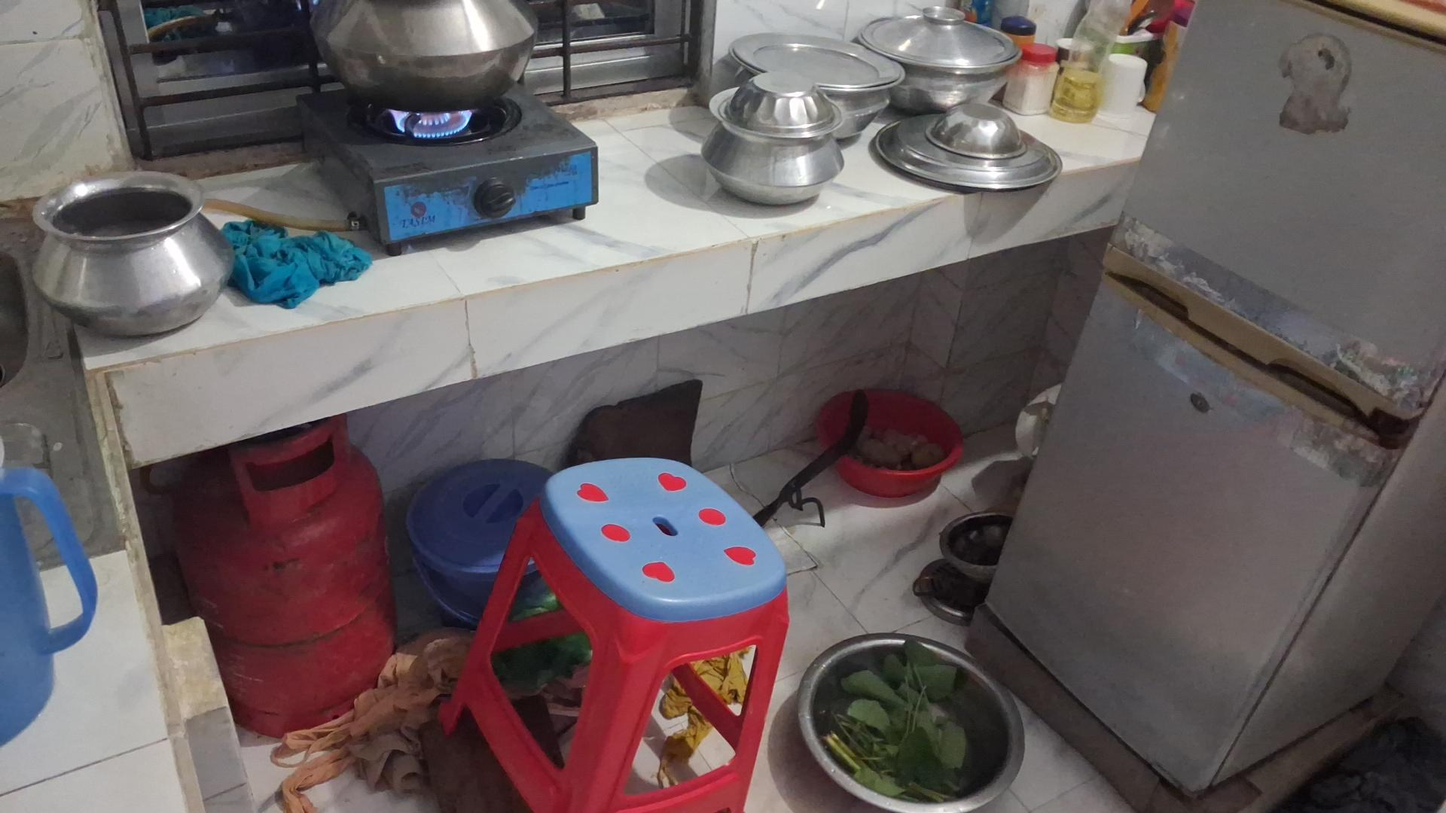Bottle: (1053, 2, 1117, 121)
Bowl: (796, 632, 1026, 811), (817, 387, 964, 499), (922, 103, 1030, 160)
Plate: (871, 121, 1070, 187)
Pot: (30, 175, 226, 339), (329, 0, 533, 109), (701, 79, 848, 207), (861, 7, 1016, 115)
Stool: (448, 460, 787, 813)
